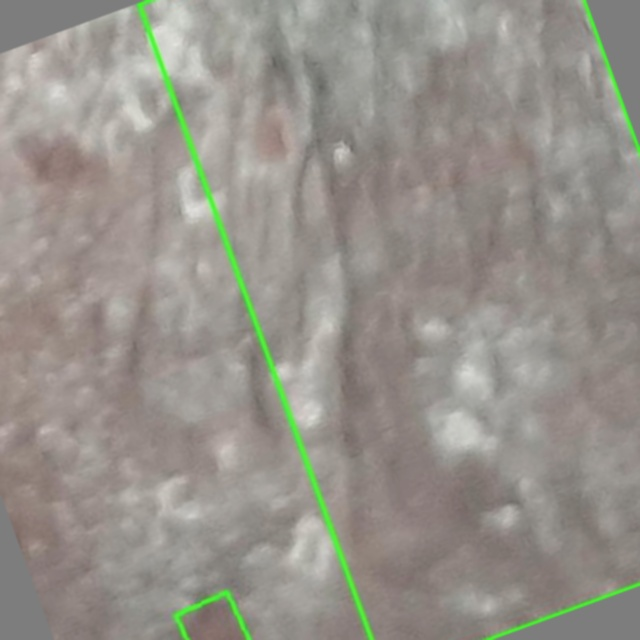Eczema: (139, 0, 639, 639)
